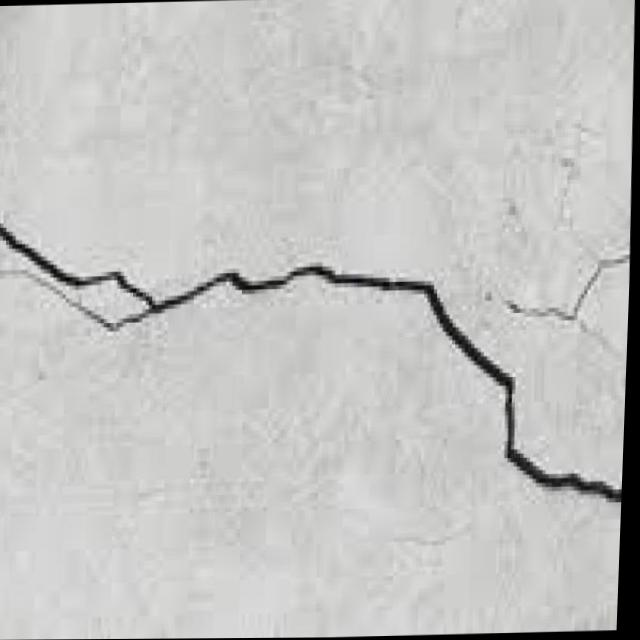Crack: (0, 166, 633, 526)
